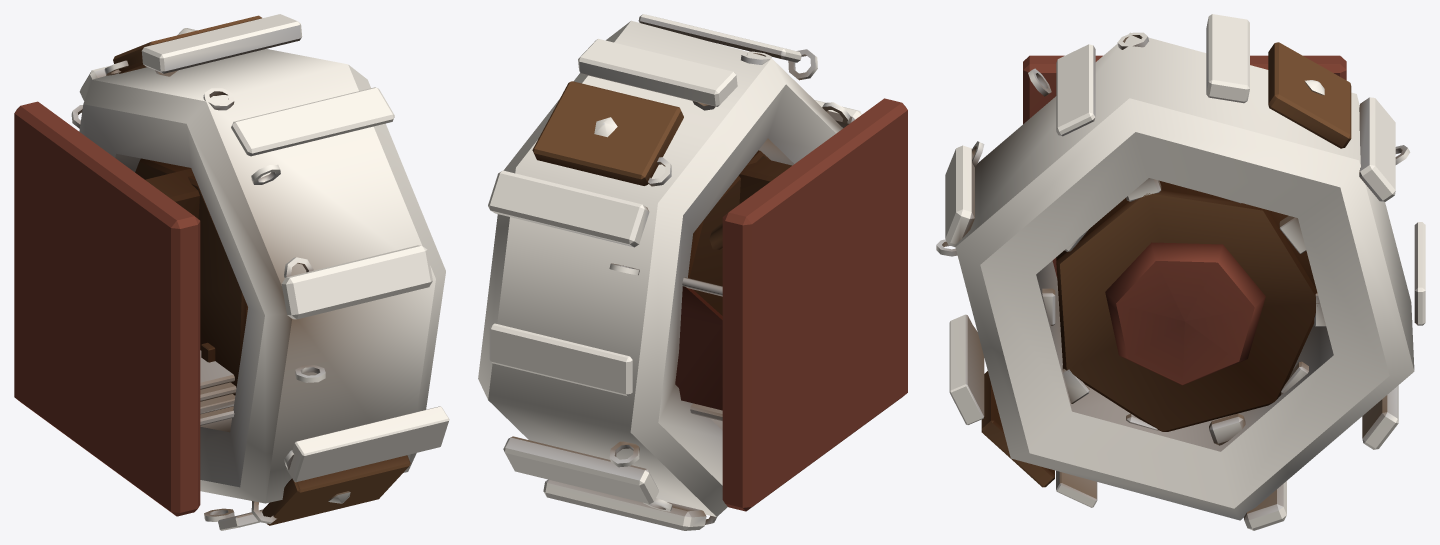
Rendered from R4M_WheelM_Side_Offroad_LOD1.fbx.
The picture shows the model from 3 angles, left to right: view 1: azimuth 30°, elevation 25°; view 2: azimuth 150°, elevation 25°; view 3: azimuth 270°, elevation 25°; orthographic projection.
Visible parts, largest first — view 1: R4M_WheelM_Side_Offroad_LOD1; view 2: R4M_WheelM_Side_Offroad_LOD1; view 3: R4M_WheelM_Side_Offroad_LOD1.
Boxes of the visible parts, x1,y1,x2,y2 form: R4M_WheelM_Side_Offroad_LOD1: (14,14,449,530); R4M_WheelM_Side_Offroad_LOD1: (478,14,907,530); R4M_WheelM_Side_Offroad_LOD1: (936,14,1425,530).
Size of the model in its own units: 0.446 by 0.7603 by 0.7562.
